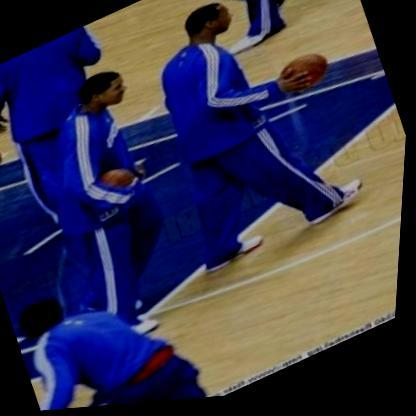basketball: (267, 44, 341, 110), (89, 157, 146, 215), (0, 137, 13, 185)
